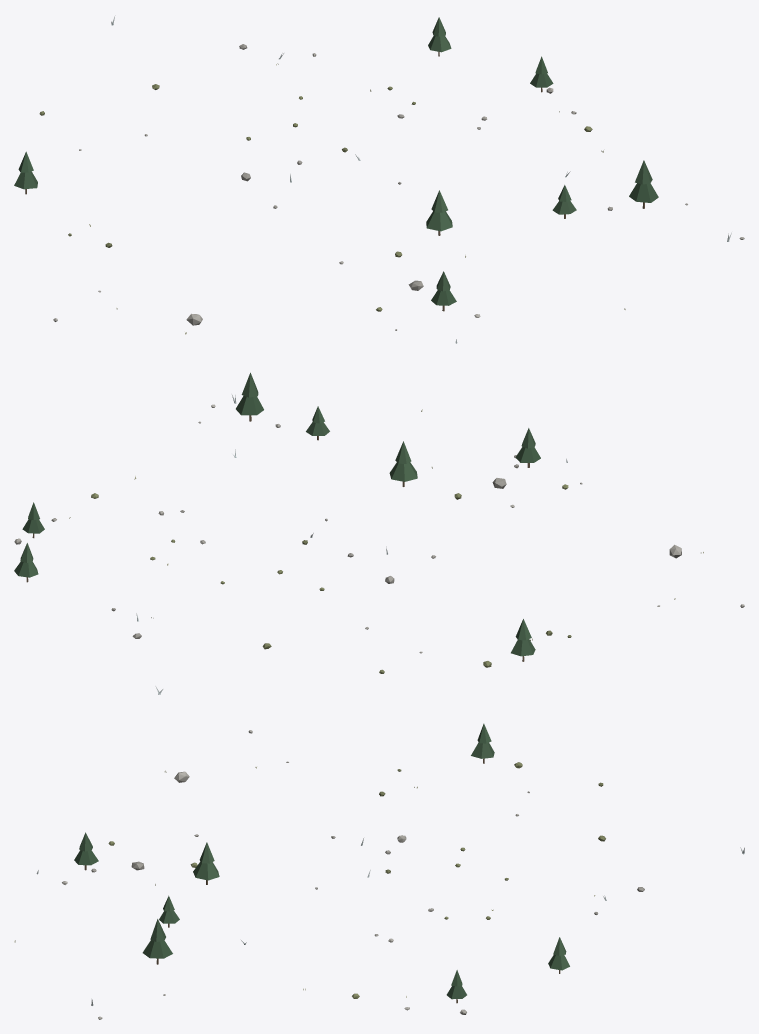
File: coast_land_scatter_c09_19_lod1.glb
The picture shows the model from 3 angles, top to bottom: view 1: azimuth 30°, elevation 25°; view 2: azimuth 150°, elevation 25°; view 3: azimuth 270°, elevation 25°; orthographic projection. The views are drawn at different scales.
Visible parts, largest first — view 1: coast_land_scatter_c09_19_lod1; view 2: coast_land_scatter_c09_19_lod1; view 3: coast_land_scatter_c09_19_lod1.
Boxes of the visible parts, <box> form: coast_land_scatter_c09_19_lod1: <box>14,15,744,343</box>; coast_land_scatter_c09_19_lod1: <box>14,372,744,694</box>; coast_land_scatter_c09_19_lod1: <box>14,723,744,1019</box>.
Bounding box in the file's own units: 191 × 22.55 × 210.
